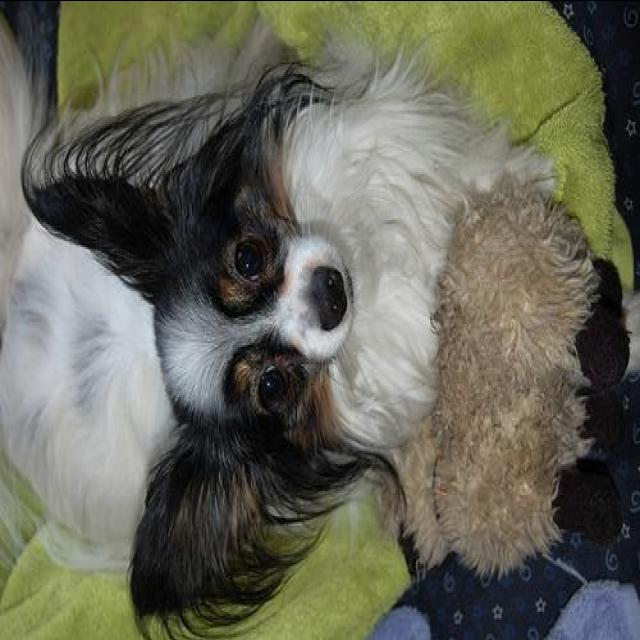papillon: (1, 16, 557, 636)
